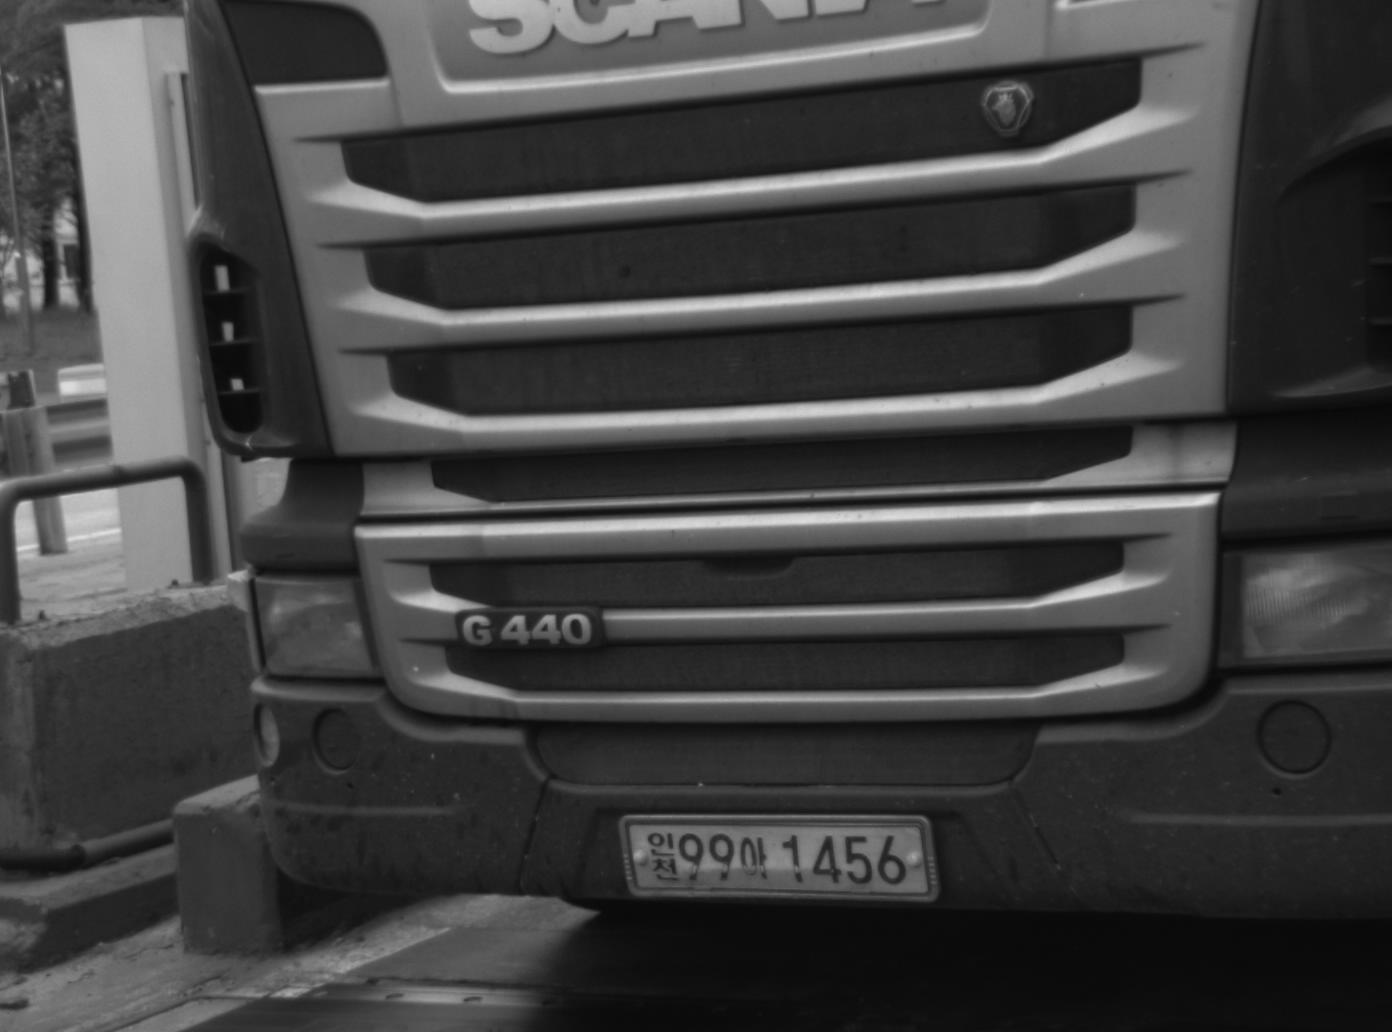car: (179, 1, 1392, 928)
plate: (616, 812, 942, 901)
